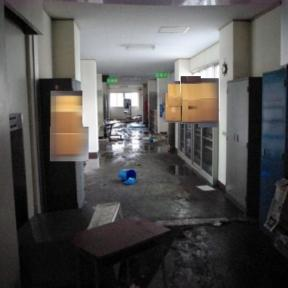box: (51, 90, 84, 134), (49, 127, 90, 162), (198, 78, 220, 128), (181, 76, 201, 125), (162, 92, 181, 124), (167, 81, 181, 106)
